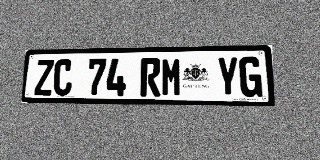4: (106, 58, 126, 96)
7: (86, 59, 107, 96)
C: (53, 59, 73, 96)
G: (239, 56, 262, 97)
M: (161, 57, 182, 97)
R: (140, 58, 161, 96)
Y: (216, 57, 239, 97)
Z: (34, 59, 54, 96)
